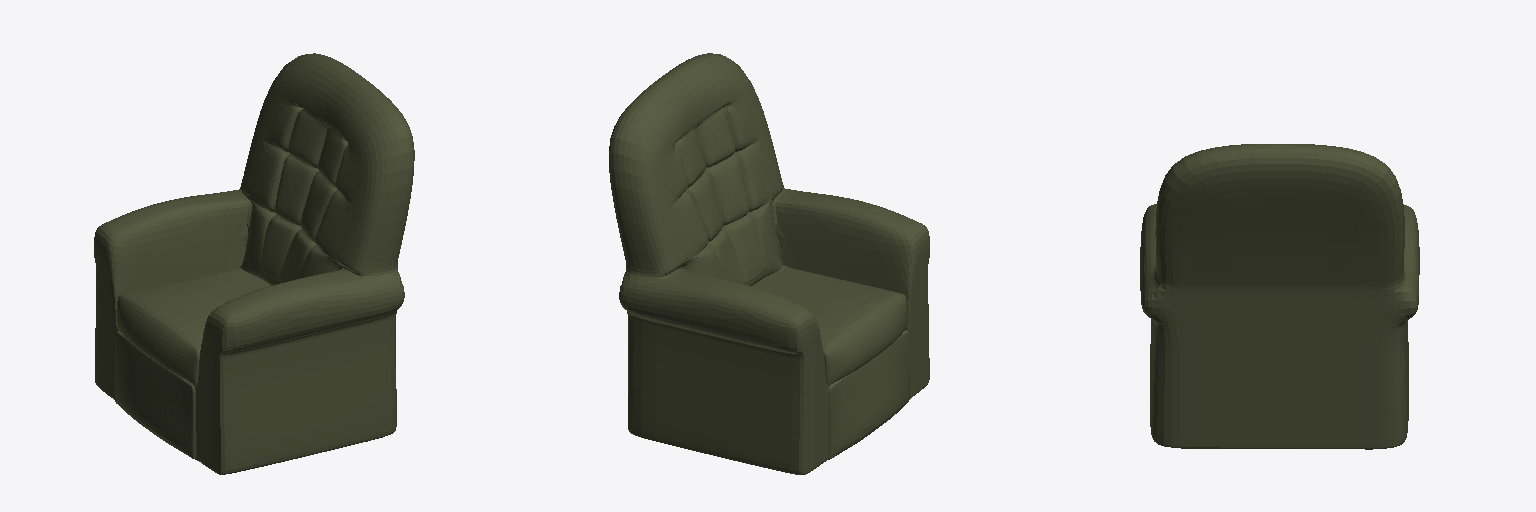
3 views of the same model, side by side, from view 1: azimuth 30°, elevation 25°; view 2: azimuth 150°, elevation 25°; view 3: azimuth 270°, elevation 25° (orthographic).
Visible parts, largest first — view 1: _plush_recliner_v2_NEW:plush_recliner; view 2: _plush_recliner_v2_NEW:plush_recliner; view 3: _plush_recliner_v2_NEW:plush_recliner.
Boxes of the visible parts, box(x1,y1,x2,y2) form: _plush_recliner_v2_NEW:plush_recliner: box(94, 53, 414, 474); _plush_recliner_v2_NEW:plush_recliner: box(609, 53, 929, 474); _plush_recliner_v2_NEW:plush_recliner: box(1140, 144, 1419, 449).
Size of the model in its own units: 1.19 by 1.61 by 1.29.
1 materials, 1 textured.